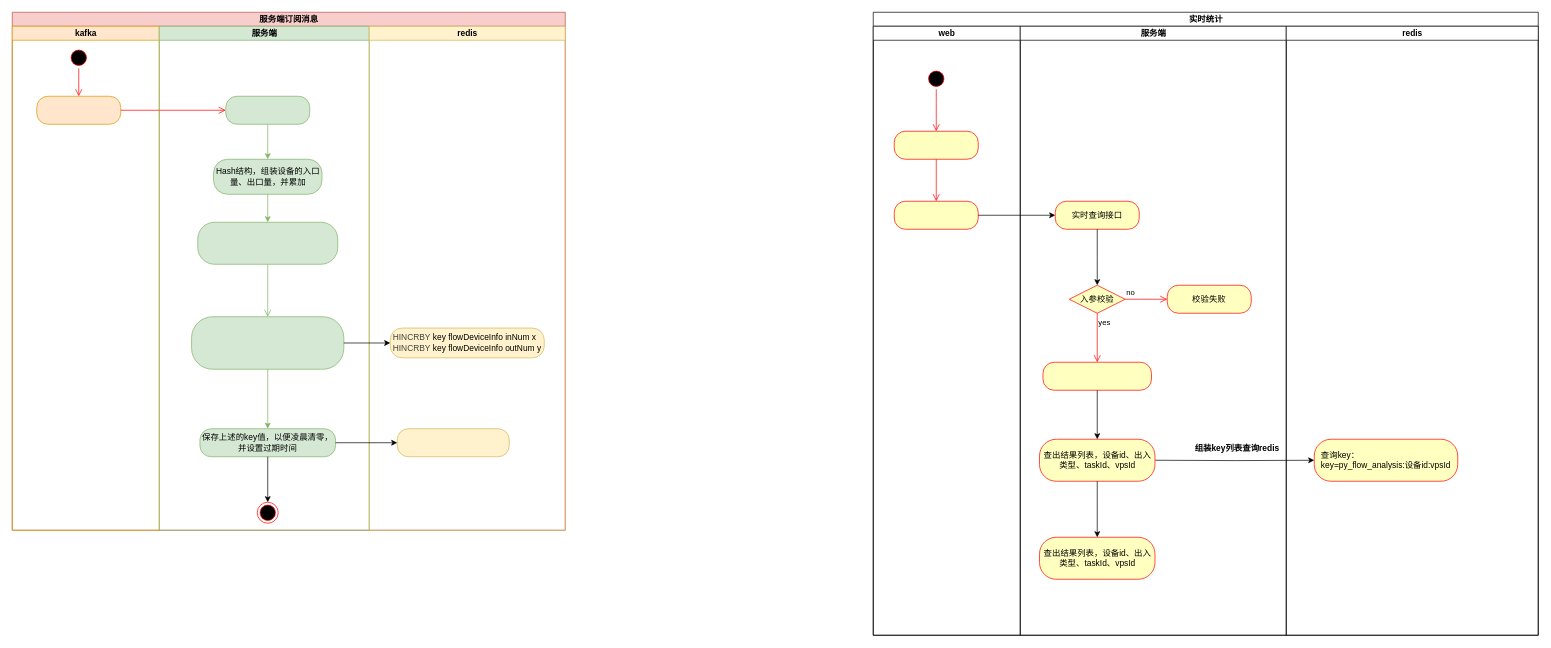
The diagram is 1551 pixels wide and 648 high, and some of its shapes have lost their labels. The centre of each missing label's shape, as x and y in pixels:
expire(key,1天) setex(key1,value1,1天): (453,442)
kafka消息存储: (78,110)
key=py_flow_analysis:设备id:vpsId value=flowDeviceInfo inNum 100 outNum 10: (267,342)
key描述：根据设备id、vpsId value描述：保存入口量、出口量 过期时间：一天: (267,243)
入参：园区id列表: (936,215)
根据园区id列表查询关联表: (1097,376)
每5s发起请求: (936,145)
订阅相应topic: (267,110)
